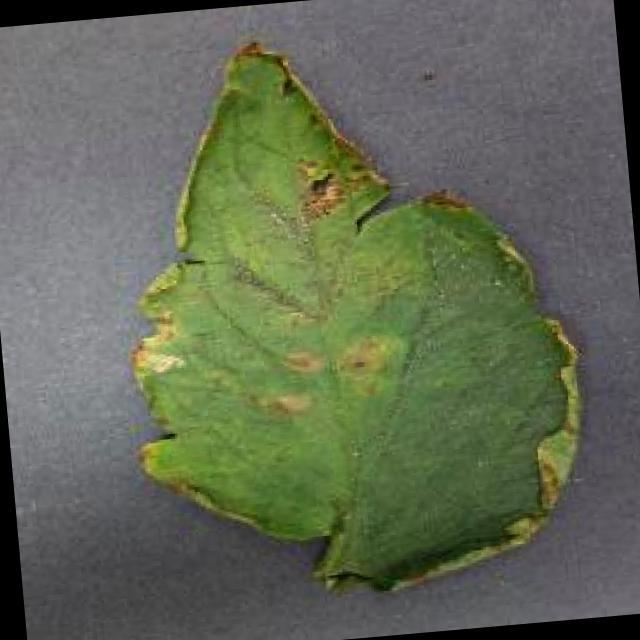Tomato bacterial spot leaf: (89, 0, 618, 628)
